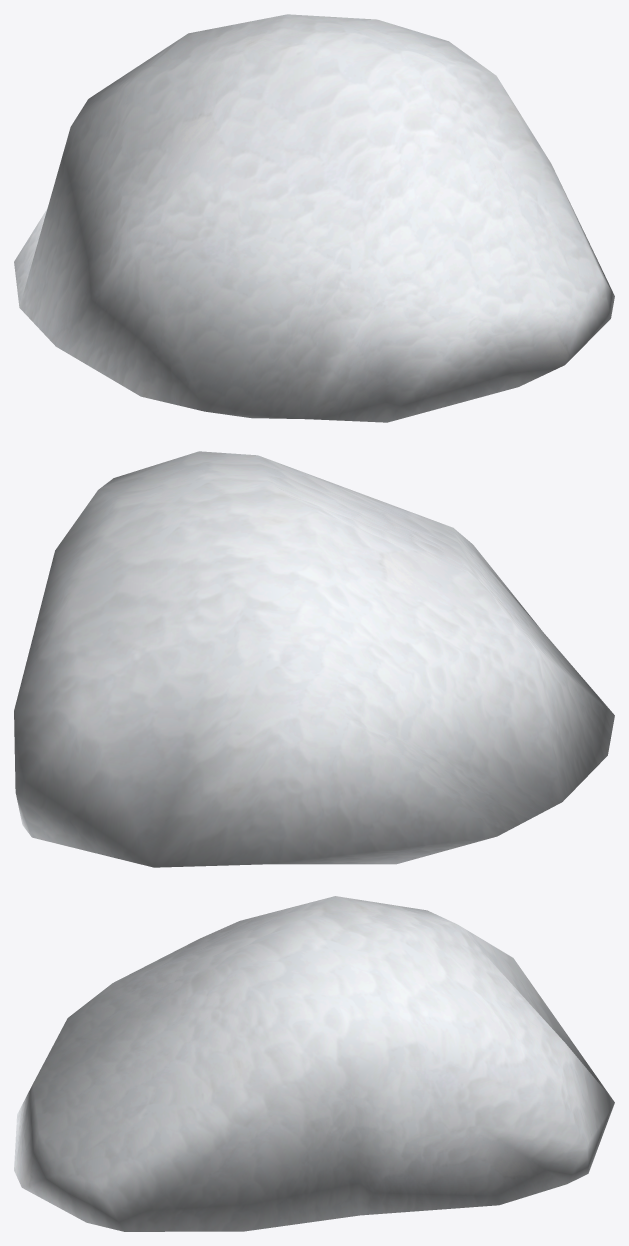
Rendered from snow03.fbx.
3 views of the same model, one above another, from view 1: azimuth 30°, elevation 25°; view 2: azimuth 150°, elevation 25°; view 3: azimuth 270°, elevation 25° (orthographic). The views are drawn at different scales.
Visible parts, largest first — view 1: snow03; view 2: snow03; view 3: snow03.
Part boxes in pixels (x1,y1,x2,y2): snow03: (14,14,614,422); snow03: (14,451,614,867); snow03: (14,896,614,1231).
Size of the model in its own units: 219 by 109 by 254.
